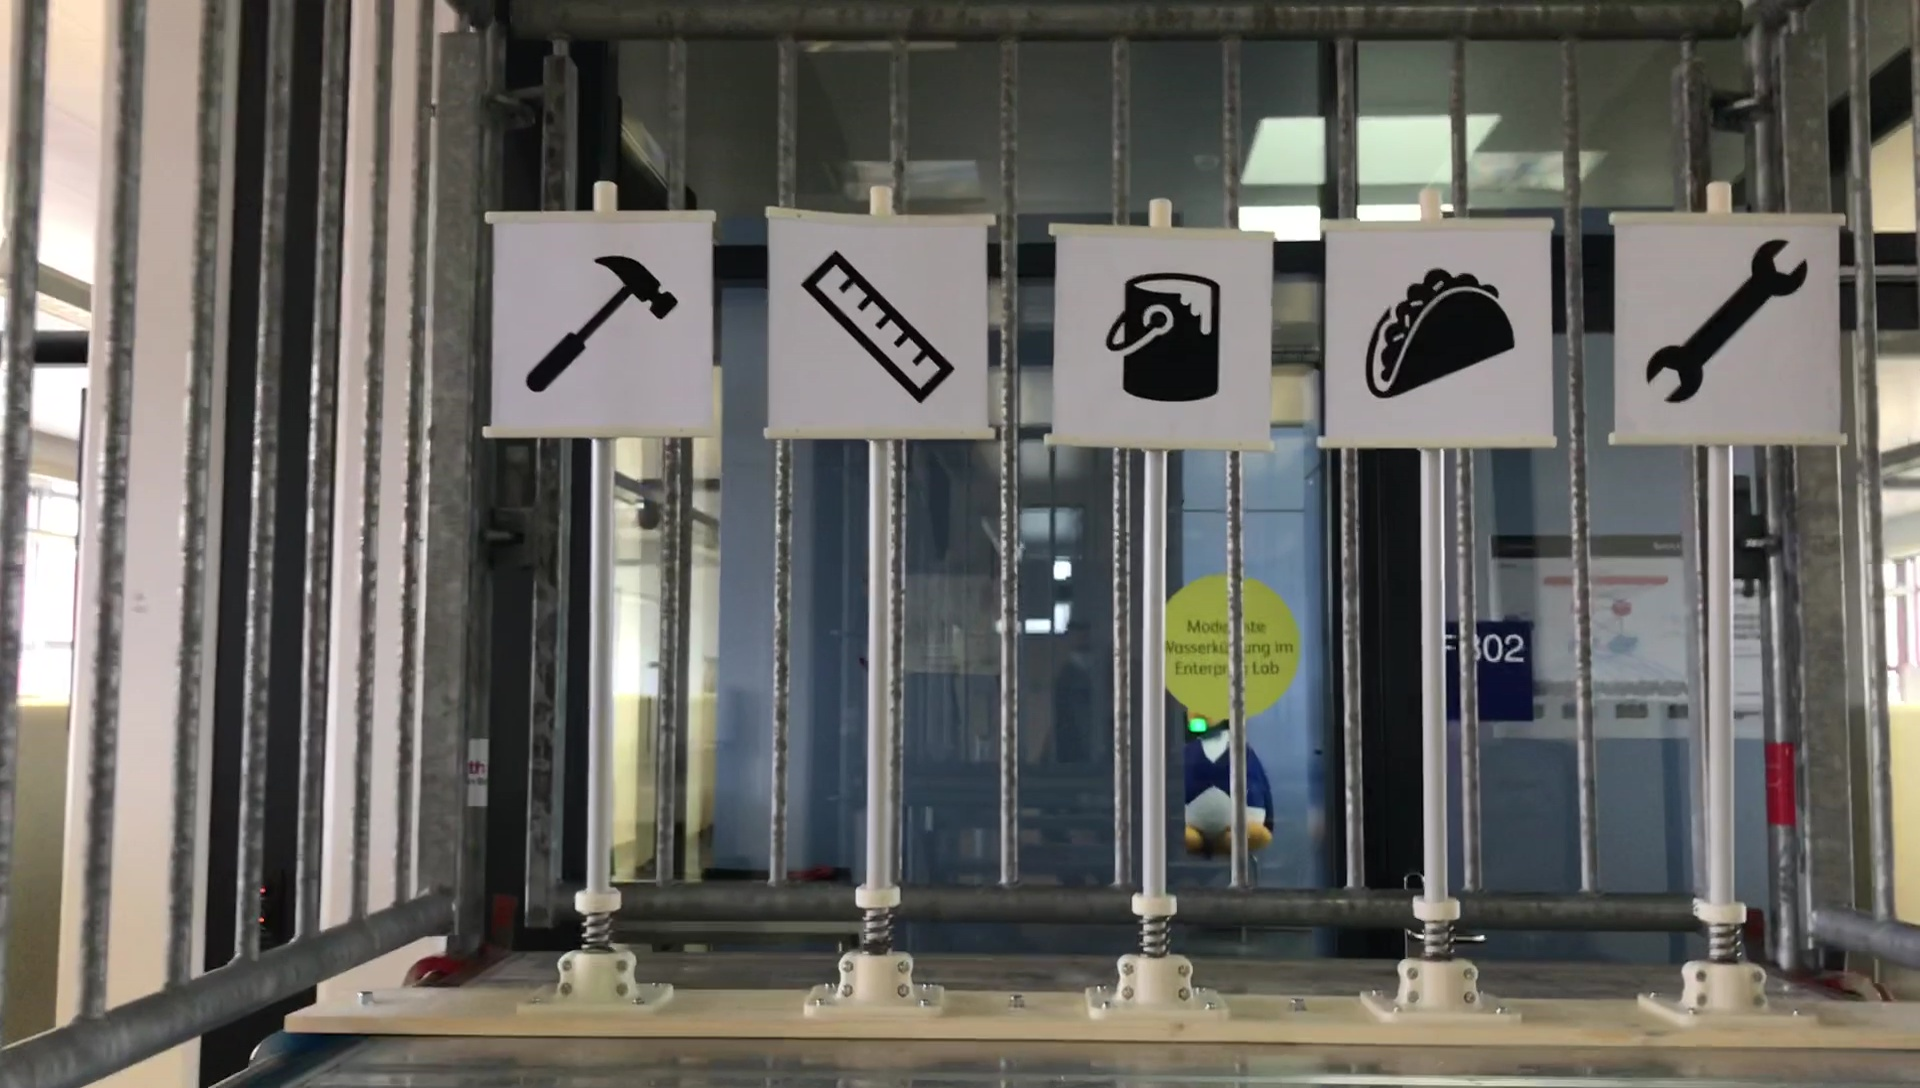bucket: (1100, 266, 1226, 411)
hammer: (520, 249, 684, 400)
ruler: (800, 248, 953, 408)
taco: (1360, 257, 1519, 400)
wrench: (1639, 233, 1815, 408)
